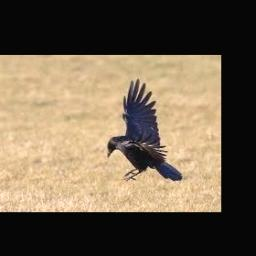Crow: (107, 79, 184, 182)
